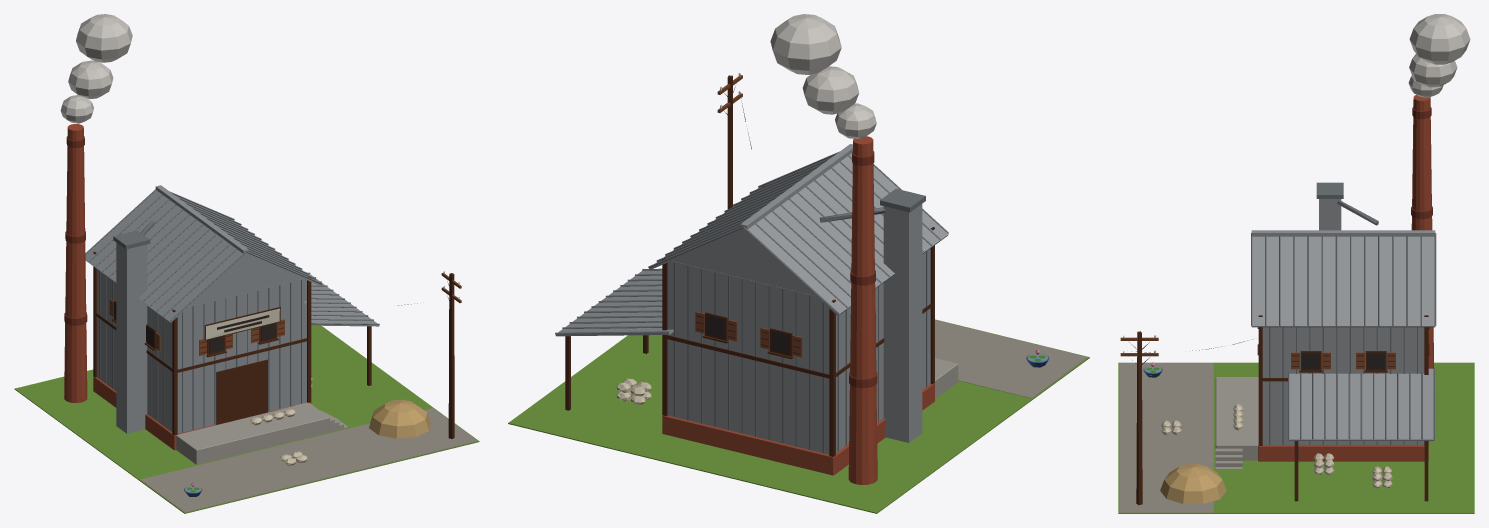
Rendered from factory_3.glb.
The picture shows the model from 3 angles, left to right: view 1: azimuth 30°, elevation 25°; view 2: azimuth 150°, elevation 25°; view 3: azimuth 270°, elevation 25°; orthographic projection. The views are drawn at different scales.
Visible parts, largest first — view 1: body, windows; view 2: body, windows; view 3: body, windows.
Boxes of the visible parts, x1,y1,x2,y2 form: body: (14,14,479,513); windows: (114,303,275,353); body: (508,14,1089,513); windows: (706,315,789,354); body: (1118,14,1474,513); windows: (1302,353,1384,369).
Size of the model in its own units: 15.9 by 18.88 by 15.9.
